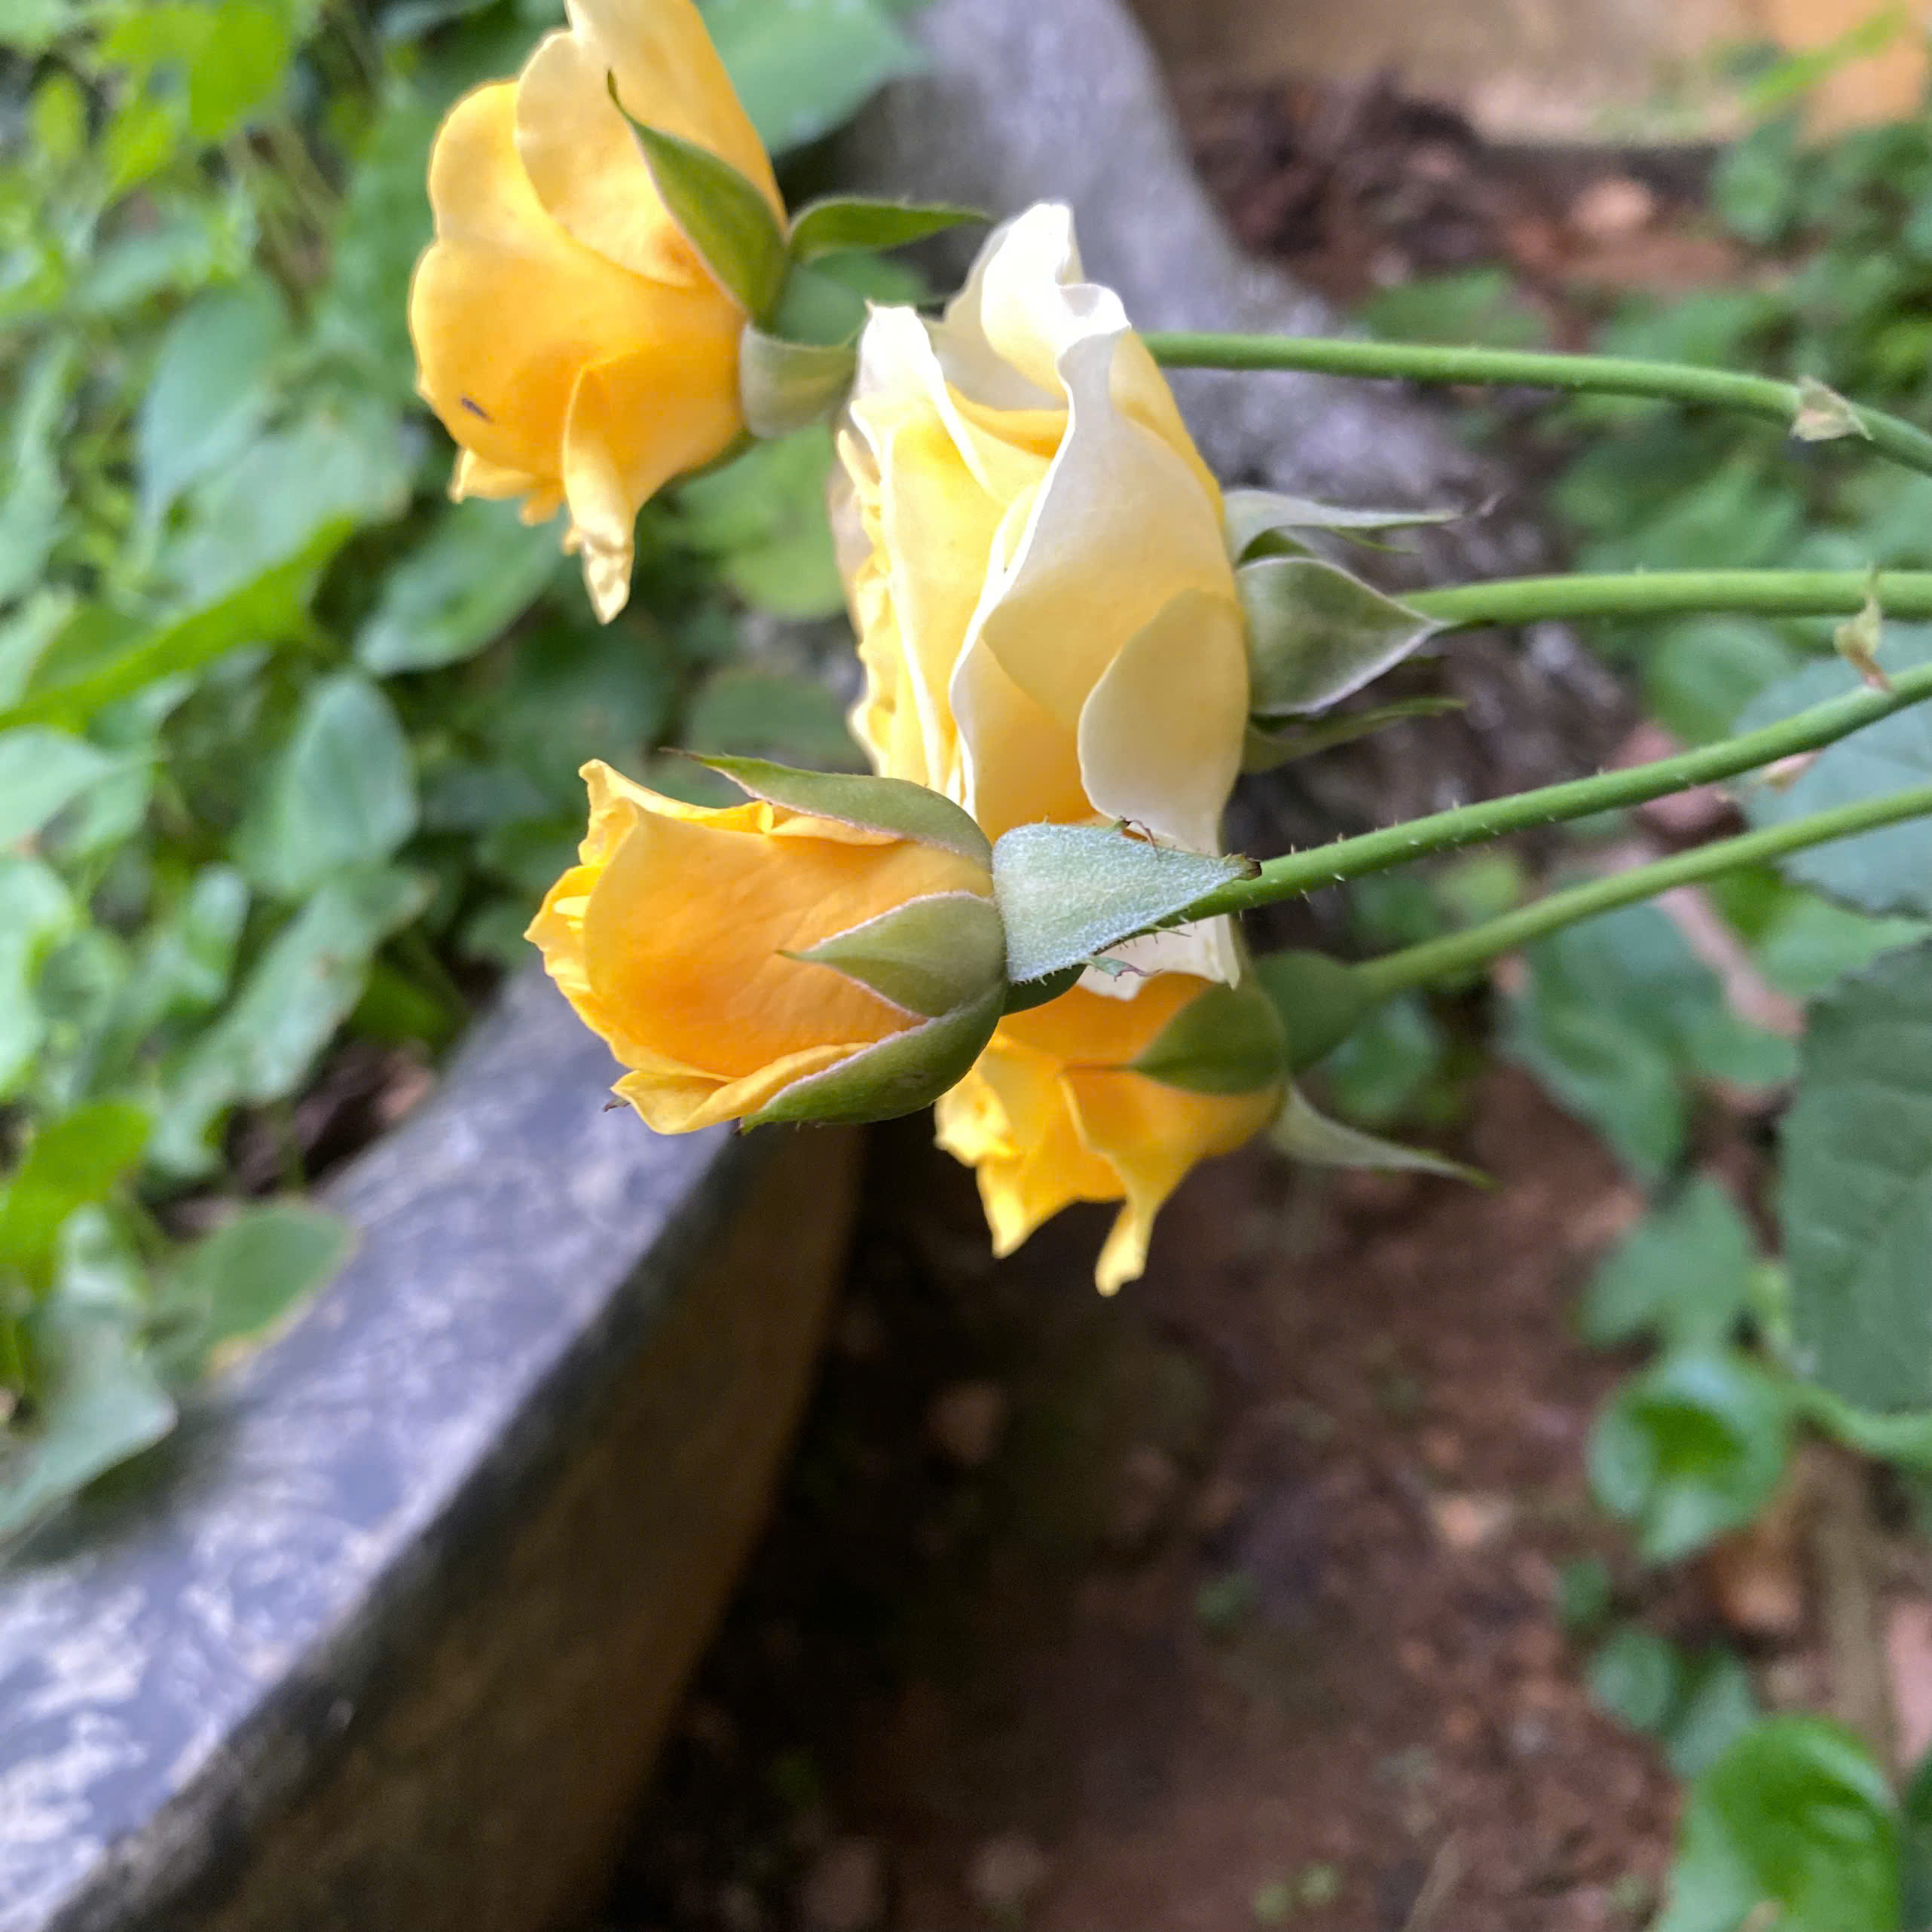hoa_thuoc_duoc: (310, 32, 1932, 1316)
